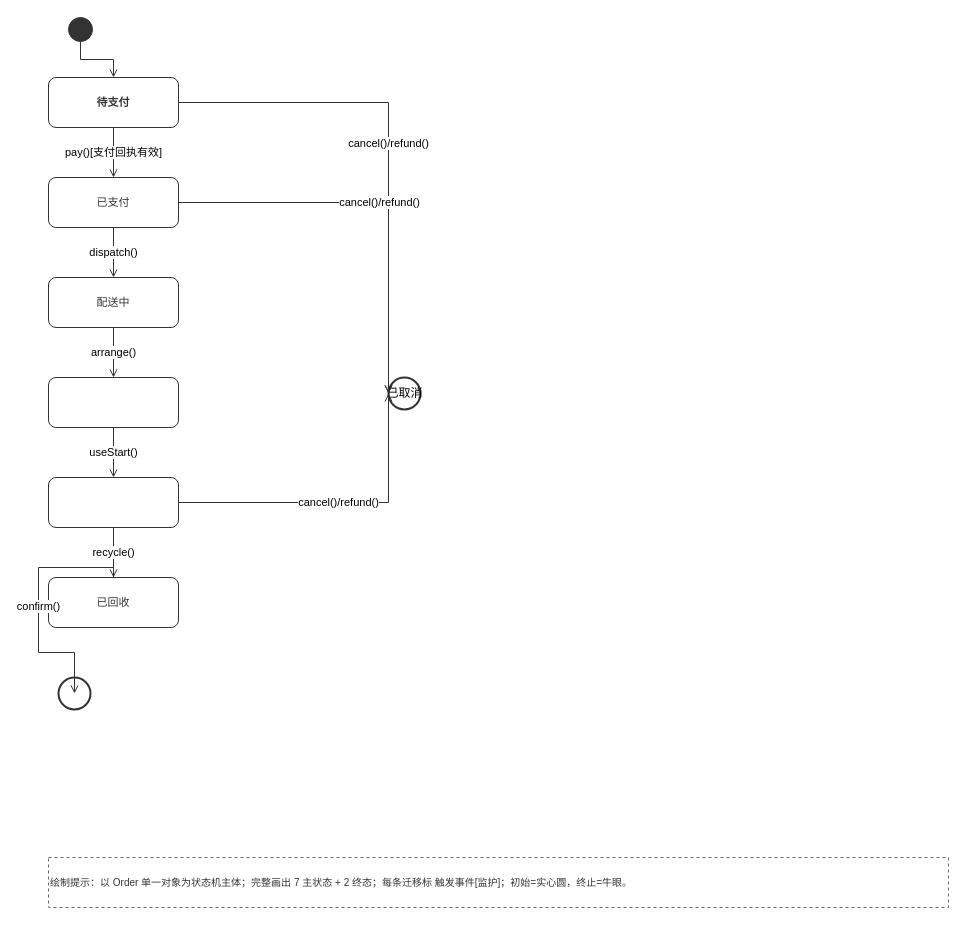
This 966x925 diagram has some shape labels left out. The centre of each missing label's shape, as x and y in pixels:
使用中: (113,502)
已完成: (74,693)
布置中: (113,402)
